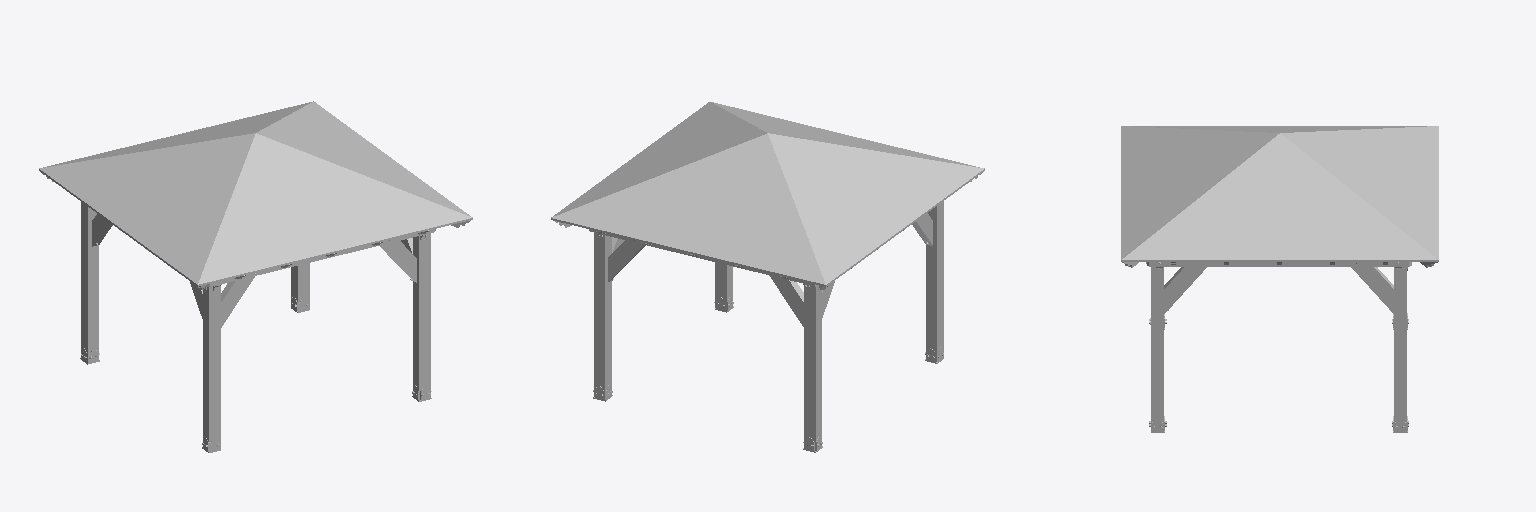
Rendered from saratoga-12x12-3step.obj.
3 renders of one model, left to right at view 1: azimuth 30°, elevation 25°; view 2: azimuth 150°, elevation 25°; view 3: azimuth 270°, elevation 25°, orthographic.
Visible parts, largest first — view 1: Mesh226 shingles roof Group1 Model, Mesh177 Group70 Component_92_4 Group1 Model, Mesh79 Group42 Component_92_2 Group1 Model, Mesh128 Group56 Component_92_3 Group1 Model, Mesh227 roof Group1 Model, Mesh217 Component_91_7 Component_92_4 Group1 Model, Mesh119 Component_91_3 Component_92_2 Group1 Model, Mesh1 Group3 Component_92_1 Group2 Group1 Model, Mesh75 Component_135_1 Group1 Model; view 2: Mesh226 shingles roof Group1 Model, Mesh128 Group56 Component_92_3 Group1 Model, Mesh1 Group3 Component_92_1 Group2 Group1 Model, Mesh177 Group70 Component_92_4 Group1 Model, Mesh227 roof Group1 Model, Mesh168 Component_91_5 Component_92_3 Group1 Model, Mesh41 Component_91_1 Component_92_1 Group2 Group1 Model, Mesh79 Group42 Component_92_2 Group1 Model; view 3: Mesh226 shingles roof Group1 Model, Mesh1 Group3 Component_92_1 Group2 Group1 Model, Mesh79 Group42 Component_92_2 Group1 Model, Mesh78 Component_134_2 Group1 Model, Mesh123 Component_91_4 Component_92_2 Group1 Model, Mesh45 Component_91_2 Component_92_1 Group2 Group1 Model, Mesh227 roof Group1 Model.
Boxes of the visible parts, x1,y1,x2,y2 form: Mesh226 shingles roof Group1 Model: [39, 101, 472, 284]; Mesh177 Group70 Component_92_4 Group1 Model: [203, 286, 220, 451]; Mesh79 Group42 Component_92_2 Group1 Model: [413, 233, 430, 400]; Mesh128 Group56 Component_92_3 Group1 Model: [81, 202, 98, 362]; Mesh227 roof Group1 Model: [39, 169, 472, 286]; Mesh217 Component_91_7 Component_92_4 Group1 Model: [221, 276, 254, 327]; Mesh119 Component_91_3 Component_92_2 Group1 Model: [380, 241, 416, 282]; Mesh1 Group3 Component_92_1 Group2 Group1 Model: [291, 263, 309, 311]; Mesh75 Component_135_1 Group1 Model: [206, 229, 435, 286]; Mesh226 shingles roof Group1 Model: [551, 102, 984, 284]; Mesh128 Group56 Component_92_3 Group1 Model: [804, 285, 821, 450]; Mesh1 Group3 Component_92_1 Group2 Group1 Model: [594, 233, 611, 399]; Mesh177 Group70 Component_92_4 Group1 Model: [926, 201, 943, 361]; Mesh227 roof Group1 Model: [551, 169, 984, 286]; Mesh168 Component_91_5 Component_92_3 Group1 Model: [769, 275, 803, 326]; Mesh41 Component_91_1 Component_92_1 Group2 Group1 Model: [608, 240, 645, 281]; Mesh79 Group42 Component_92_2 Group1 Model: [715, 262, 732, 310]; Mesh226 shingles roof Group1 Model: [1121, 126, 1438, 259]; Mesh1 Group3 Component_92_1 Group2 Group1 Model: [1394, 267, 1406, 431]; Mesh79 Group42 Component_92_2 Group1 Model: [1151, 267, 1163, 431]; Mesh78 Component_134_2 Group1 Model: [1163, 262, 1402, 266]; Mesh123 Component_91_4 Component_92_2 Group1 Model: [1164, 267, 1206, 313]; Mesh45 Component_91_2 Component_92_1 Group2 Group1 Model: [1351, 267, 1393, 313]; Mesh227 roof Group1 Model: [1121, 260, 1438, 261].
Size of the model in its own units: 144 by 123 by 144.